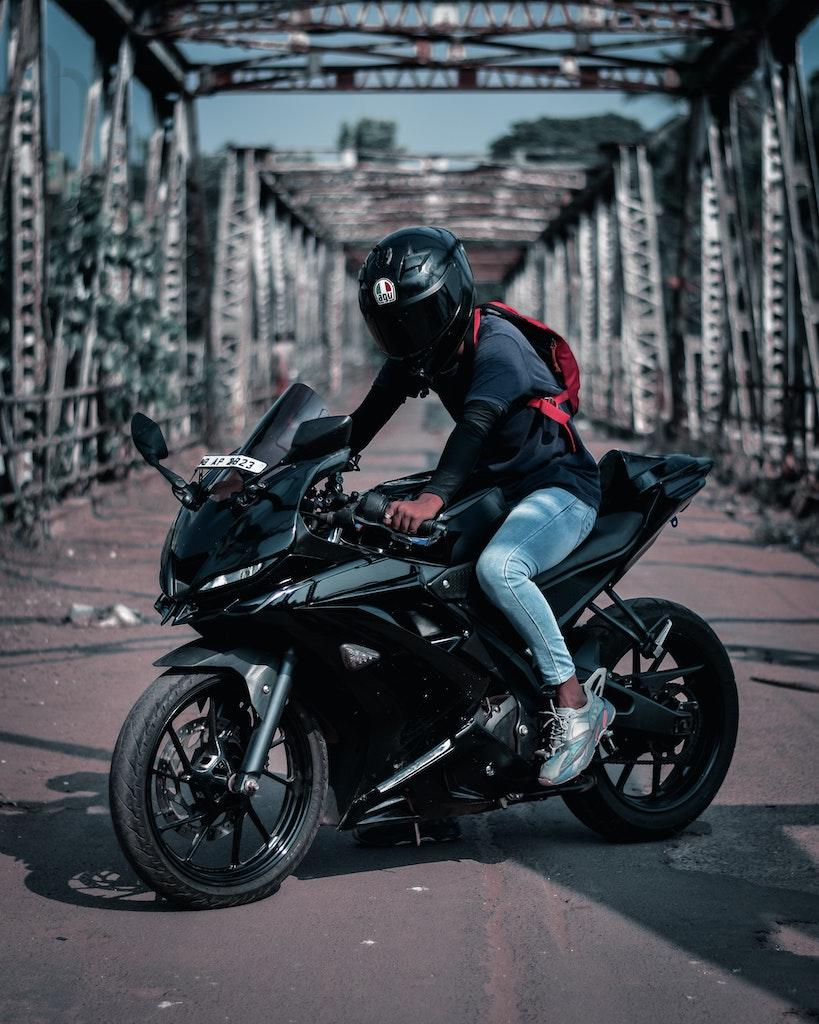helmet: (356, 224, 477, 387)
